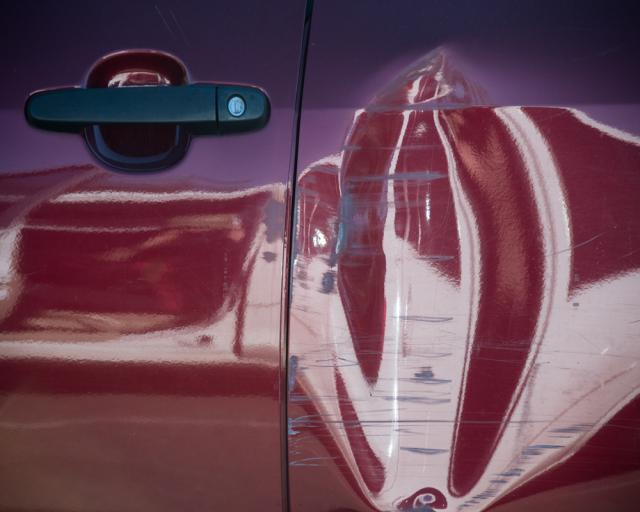dent: (289, 49, 555, 512)
scratch: (461, 416, 597, 512), (287, 370, 344, 472)
